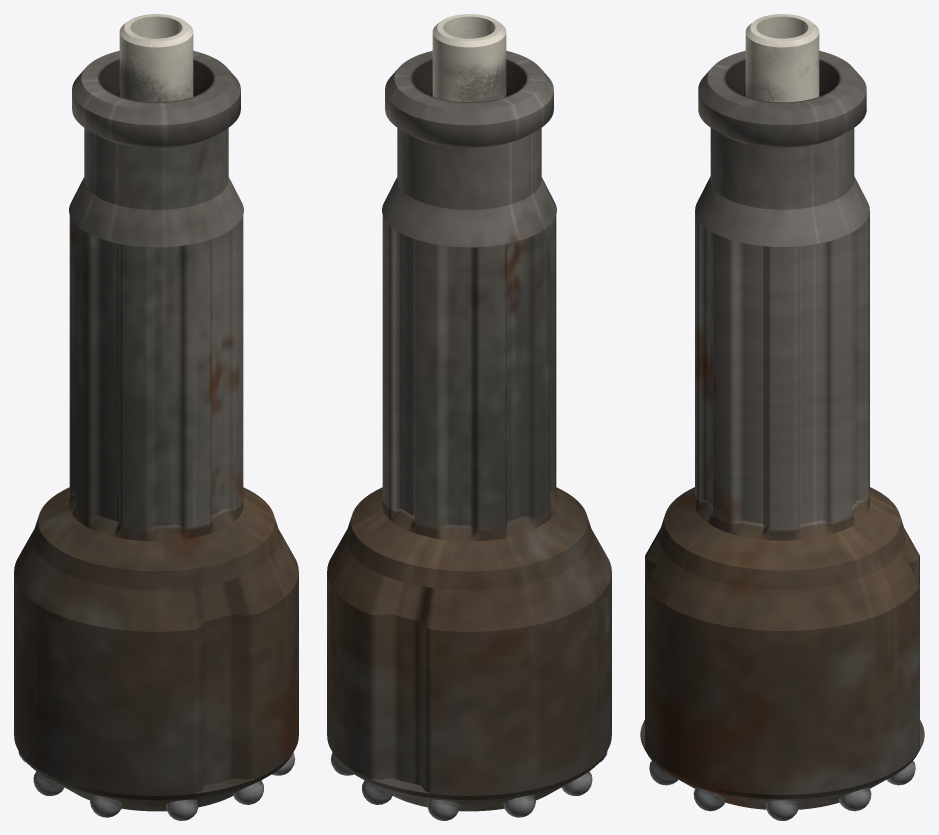
File: SM_Bit_3_5_8po.glb
3 renders of one model, left to right at view 1: azimuth 30°, elevation 25°; view 2: azimuth 150°, elevation 25°; view 3: azimuth 270°, elevation 25°, orthographic.
Parts seen in each view (by area): view 1: Bit_3_5_8po, Bit_3_5_8po_TubeDePied, Bit_3_5_8po_Boutons; view 2: Bit_3_5_8po, Bit_3_5_8po_TubeDePied, Bit_3_5_8po_Boutons; view 3: Bit_3_5_8po, Bit_3_5_8po_TubeDePied, Bit_3_5_8po_Boutons.
Part boxes in pixels (bbox=[...]): Bit_3_5_8po: bbox=[14, 50, 298, 811]; Bit_3_5_8po_TubeDePied: bbox=[119, 14, 193, 102]; Bit_3_5_8po_Boutons: bbox=[18, 750, 295, 820]; Bit_3_5_8po: bbox=[327, 50, 611, 811]; Bit_3_5_8po_TubeDePied: bbox=[432, 14, 506, 102]; Bit_3_5_8po_Boutons: bbox=[330, 750, 607, 820]; Bit_3_5_8po: bbox=[640, 50, 924, 809]; Bit_3_5_8po_TubeDePied: bbox=[745, 14, 819, 102]; Bit_3_5_8po_Boutons: bbox=[649, 761, 915, 820].
Bounding box in the file's own units: 0.0921 × 0.2686 × 0.0921.
3 materials, 3 textured.
